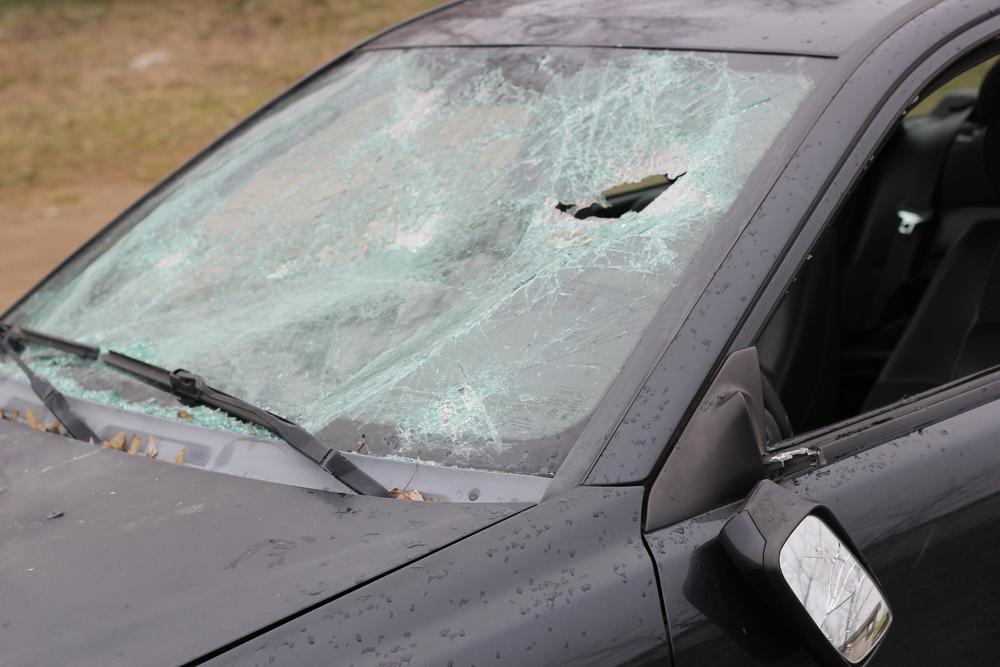glass shatter: (0, 46, 834, 477)
